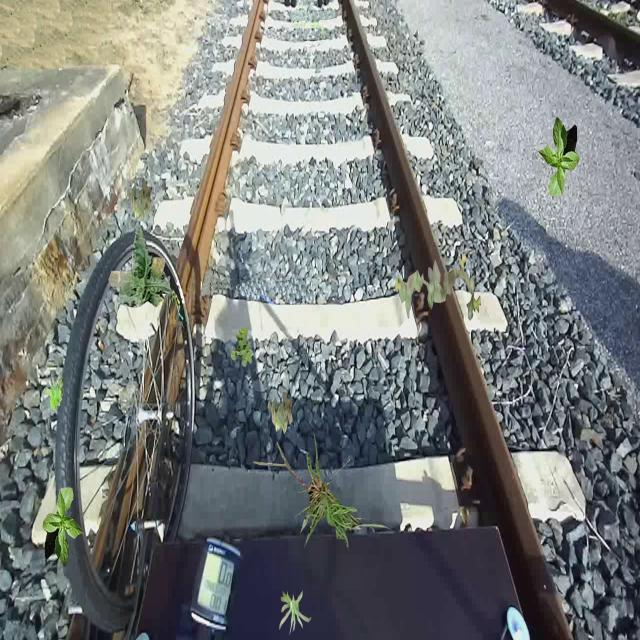Plant: (253, 431, 396, 550), (394, 253, 481, 322), (108, 225, 172, 308), (538, 117, 580, 197), (43, 487, 85, 567), (279, 590, 312, 636), (268, 392, 294, 434), (127, 180, 153, 222), (231, 327, 255, 368), (43, 378, 64, 411)
